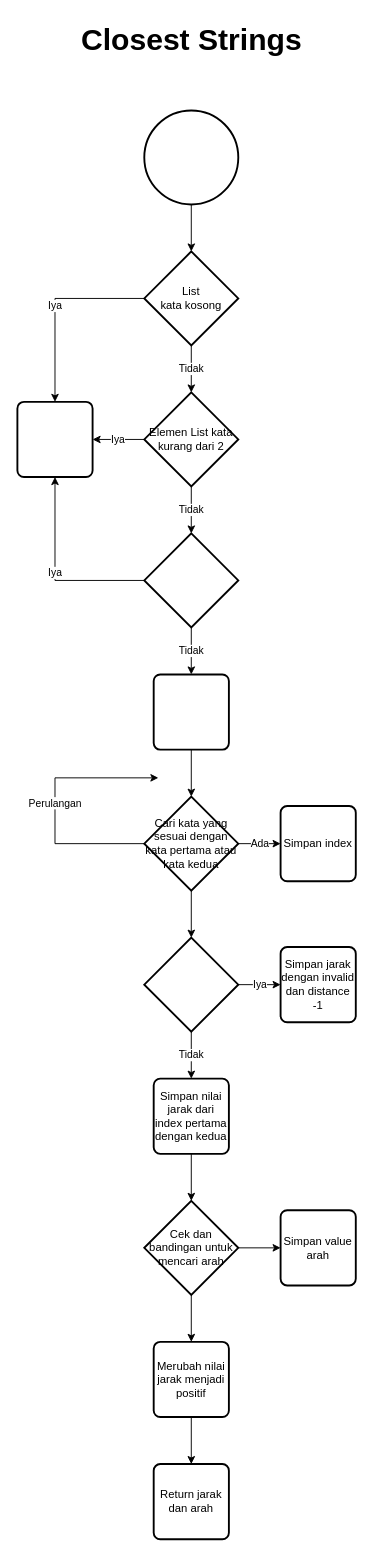
Some shapes in this 372 by 1556 pixel diagram are drawn without their labels. The centre of each missing label's shape, as x and y in pixels:
"Cek jika nilai index kurang dari 0" belongs at (x=191, y=984).
"Input" belongs at (x=191, y=157).
"Kata pertama atau kedua kosong" belongs at (x=191, y=580).
"Perulangan mencari index kata" belongs at (x=190, y=711).
"Return Error Message" belongs at (x=54, y=439).
